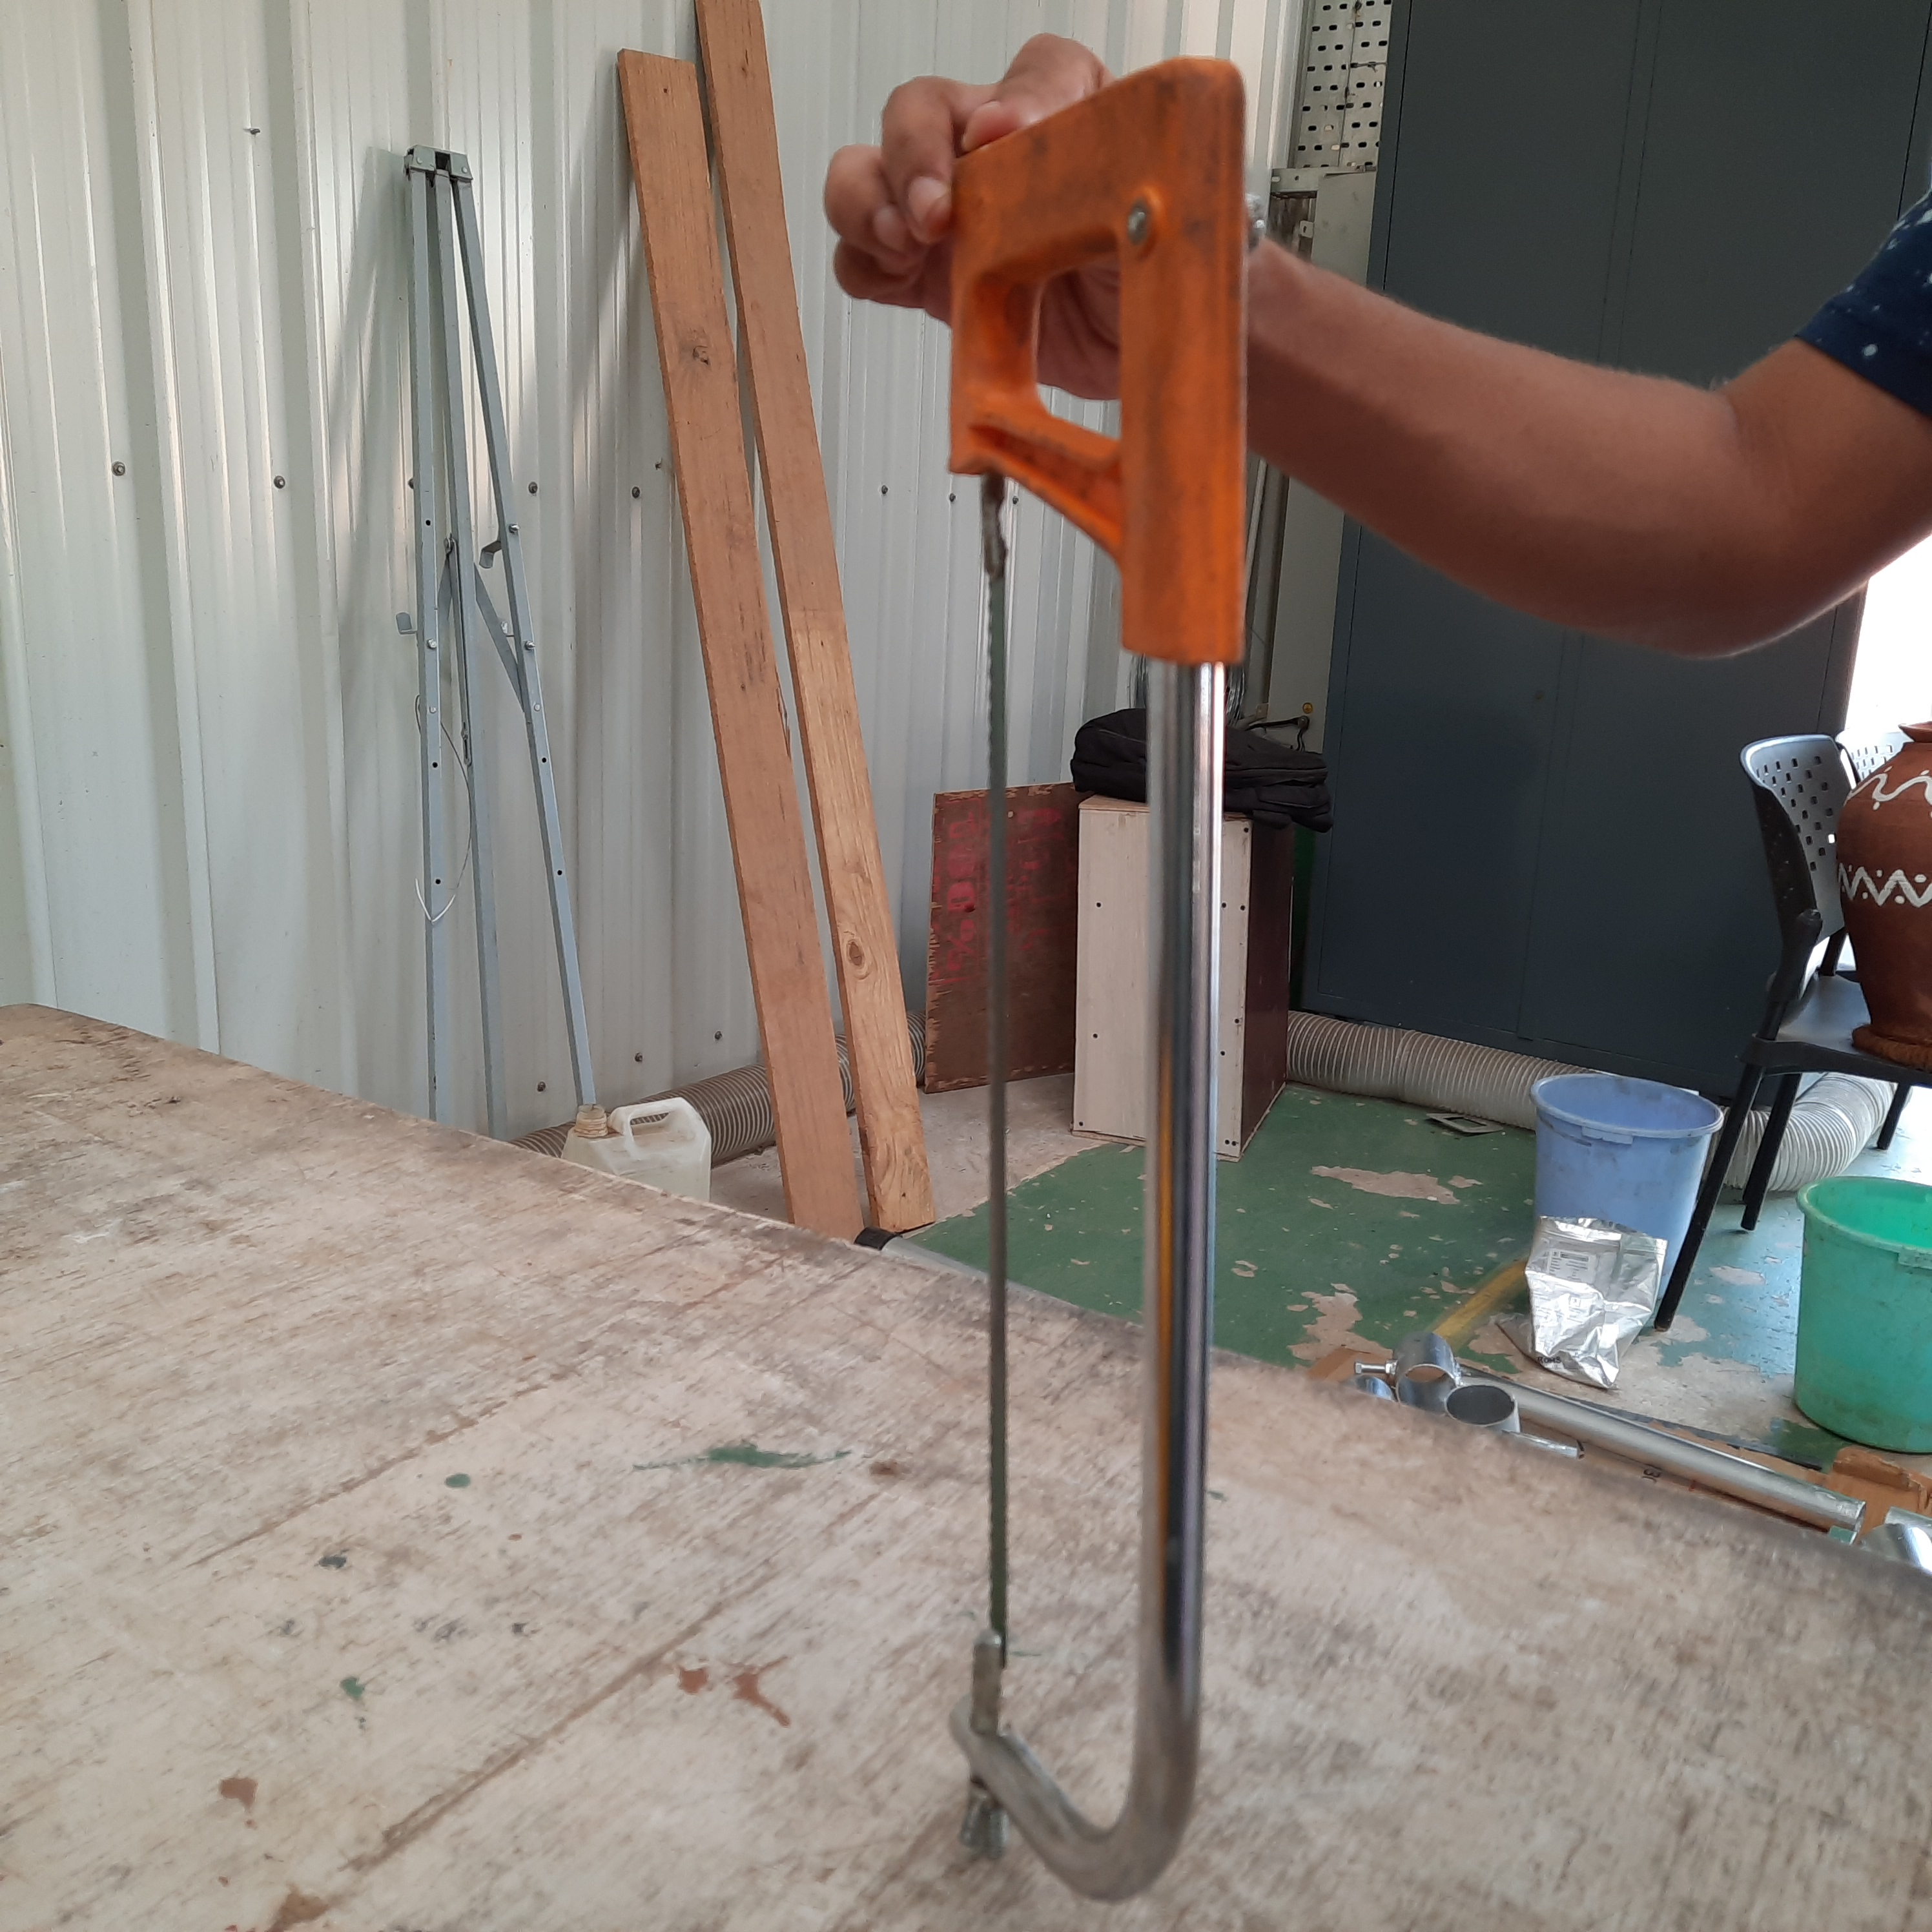Hexaframe: (909, 55, 1270, 1913)
